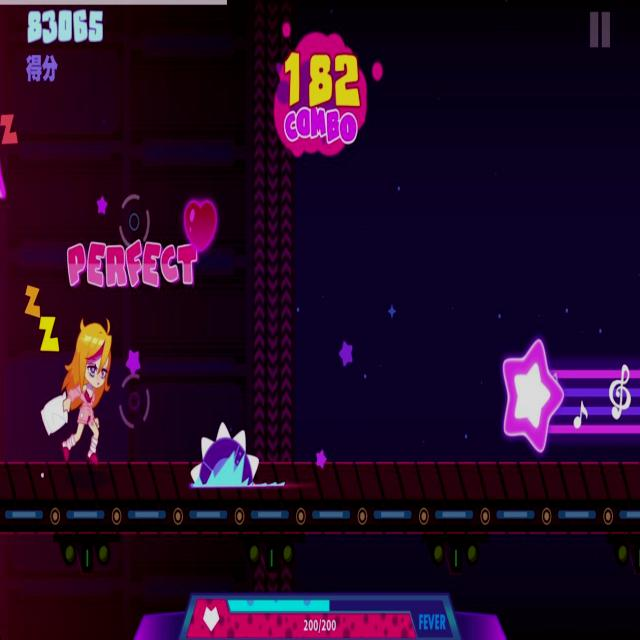ci: (187, 422, 307, 489)
hold: (501, 333, 640, 452)
xin: (177, 192, 221, 258)
